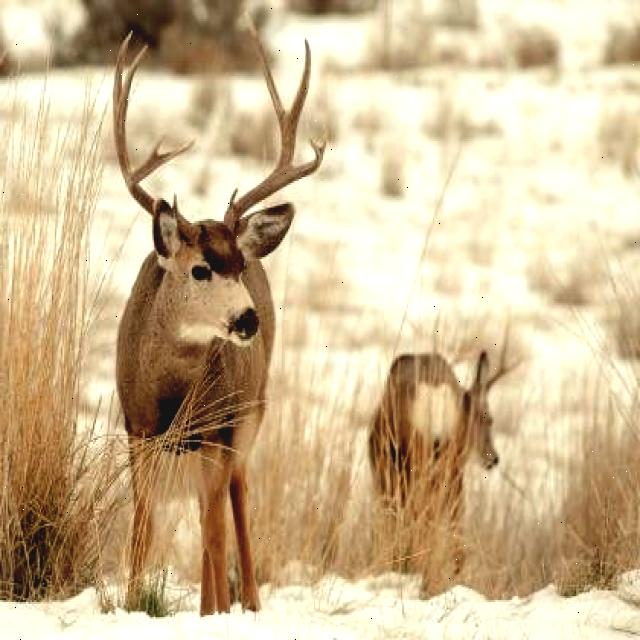deer: (95, 0, 352, 420)
